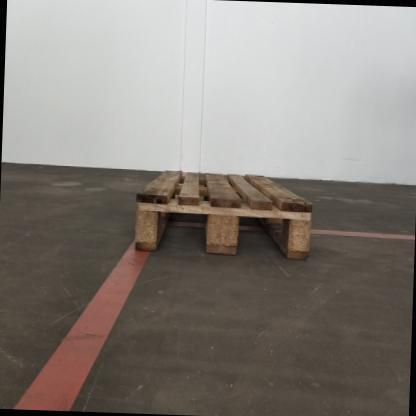pallet: (131, 165, 320, 268)
